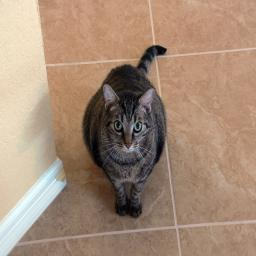catnose: (122, 138, 133, 152)
